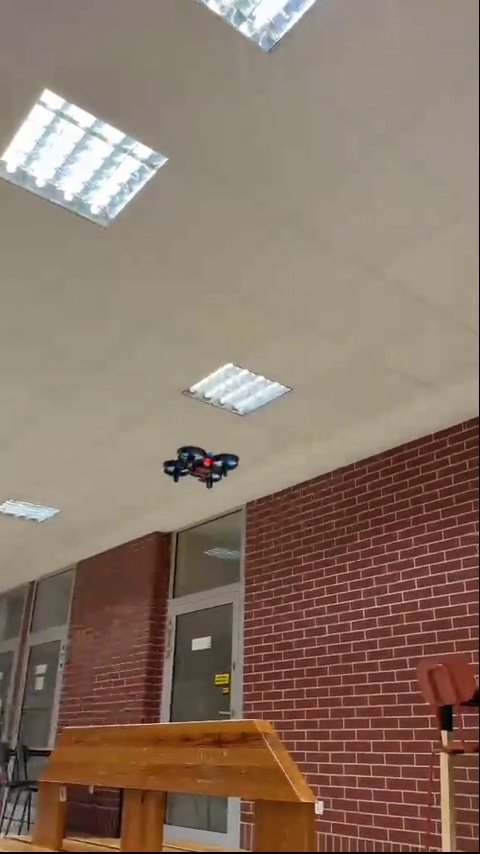drone: (153, 447, 241, 497)
